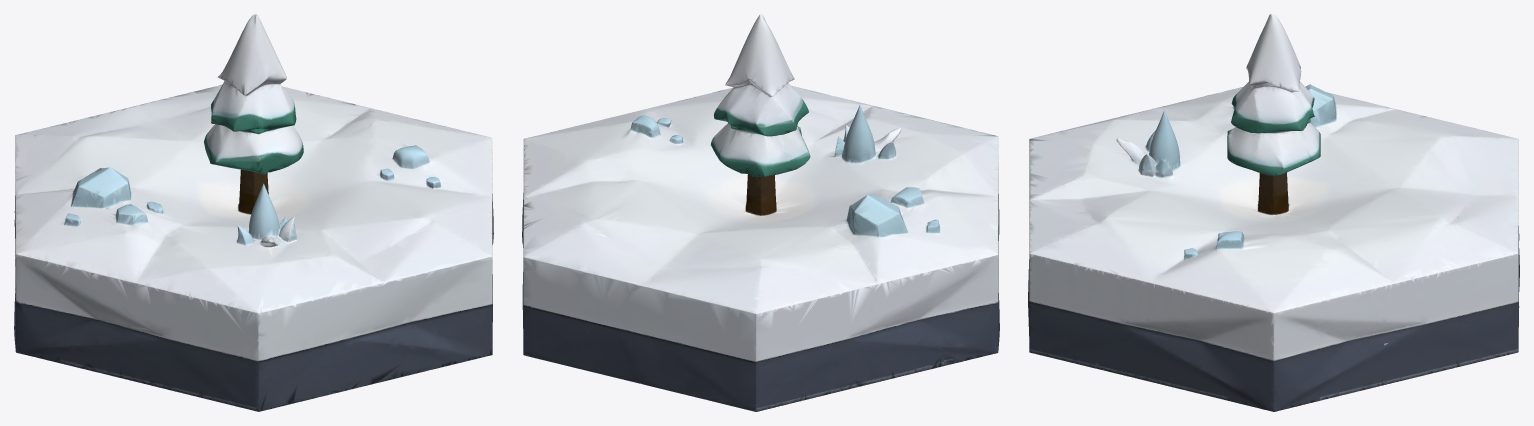
File: snowtile_lv1.glb
3 renders of one model, left to right at view 1: azimuth 30°, elevation 25°; view 2: azimuth 150°, elevation 25°; view 3: azimuth 270°, elevation 25°, orthographic.
Bounding box in the file's own units: 1.9 × 1.14 × 1.69.
1 material, 1 textured.
